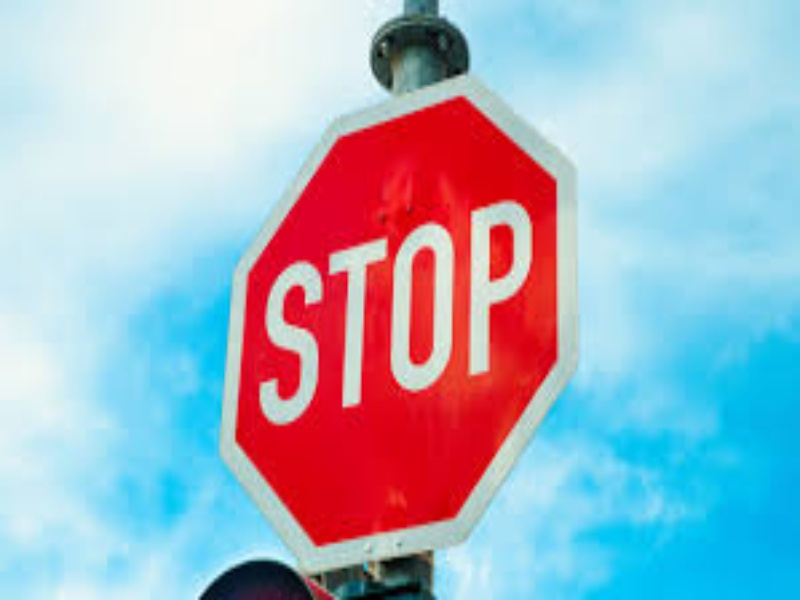Stop_Sign: (224, 83, 577, 569)
